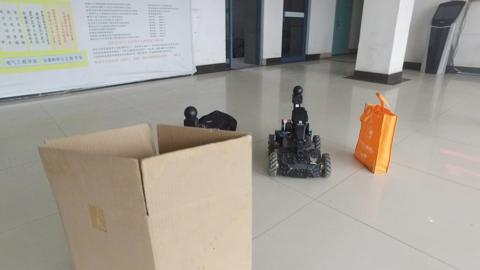bag: (355, 88, 400, 175)
chariot: (265, 85, 334, 183)
